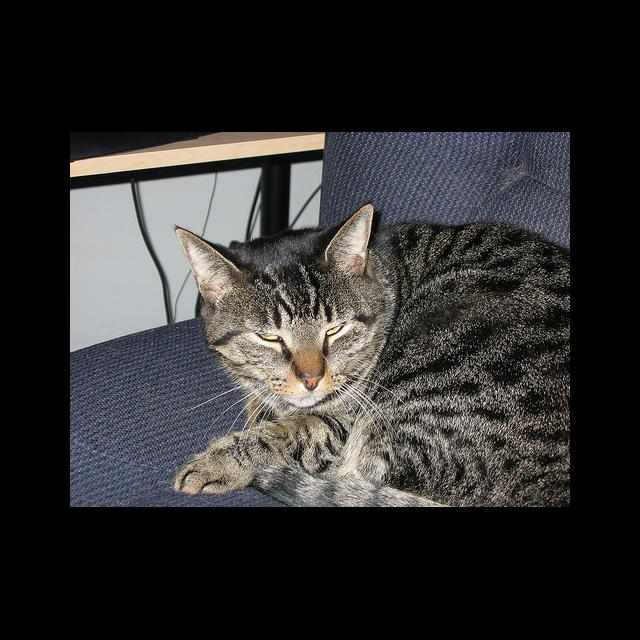animals: (178, 204, 370, 388)
